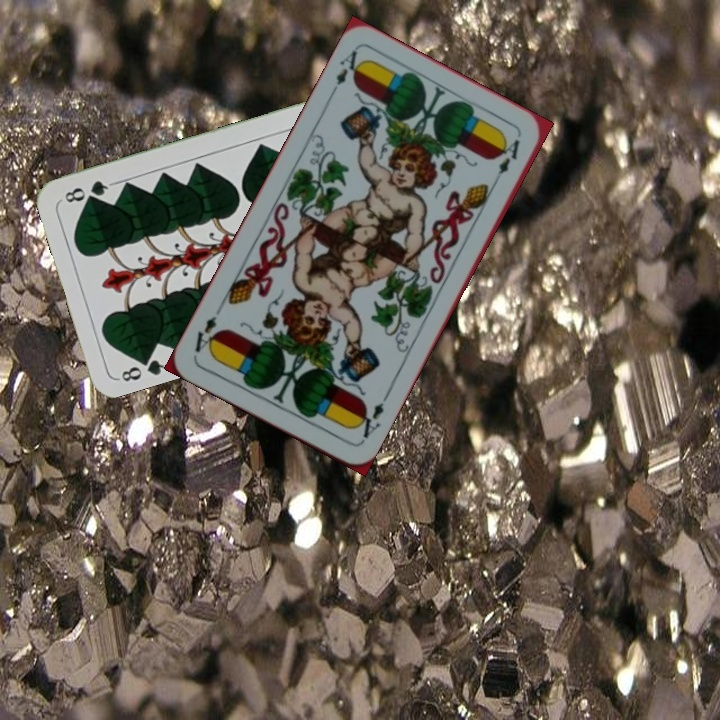EA: (326, 46, 367, 100), (350, 398, 387, 445)
G8: (115, 349, 173, 385)
